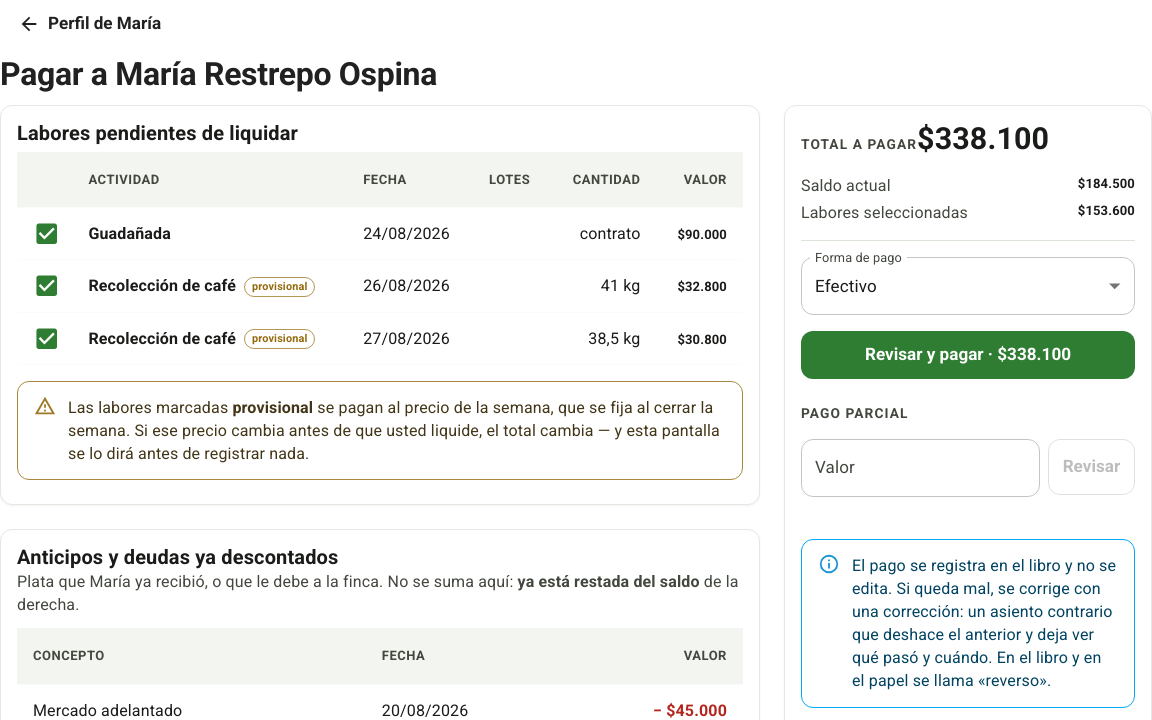
when the gross changes between looking at it and approving it › shows no error: it shows the difference and why
Expected: the heading "Labores pendientes de liquidar" is shown, x1=17 y1=120 x2=298 y2=144
Expected: the text "$153.600" is shown, x1=1078 y1=201 x2=1135 y2=224
Click the button "Revisar y pagar · $338.100": (968, 355) x1=801 y1=331 x2=1135 y2=379
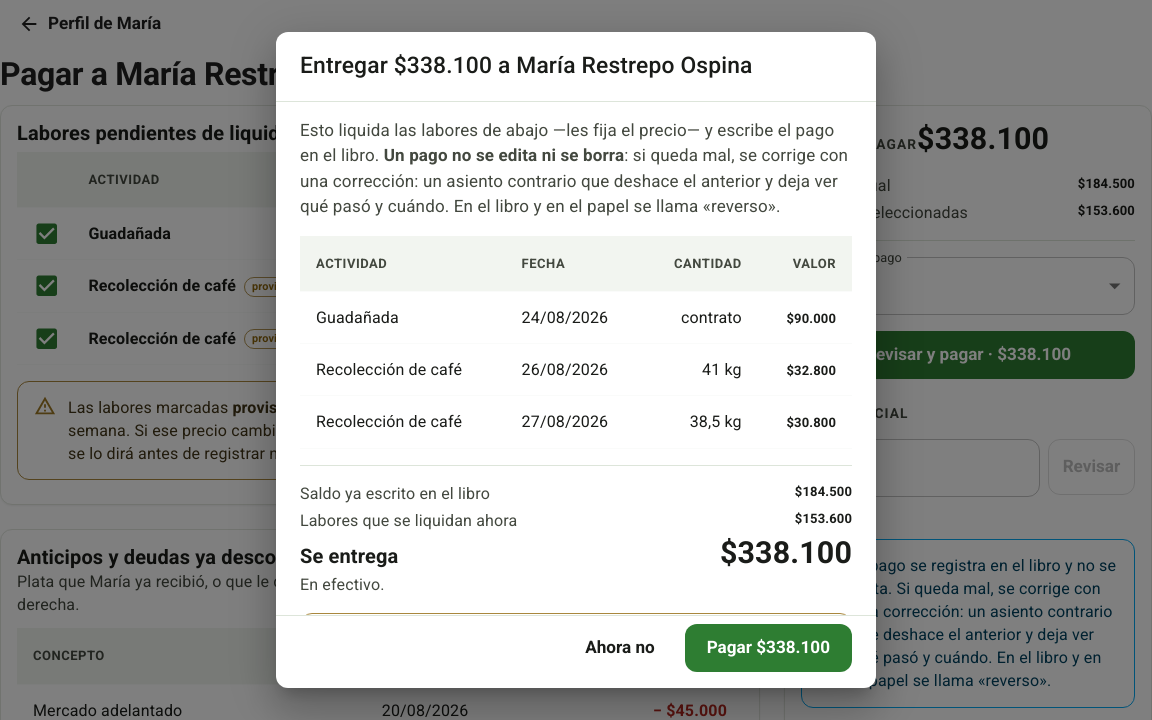
Click the button "Pagar $338.100": (768, 648) x1=685 y1=624 x2=852 y2=672
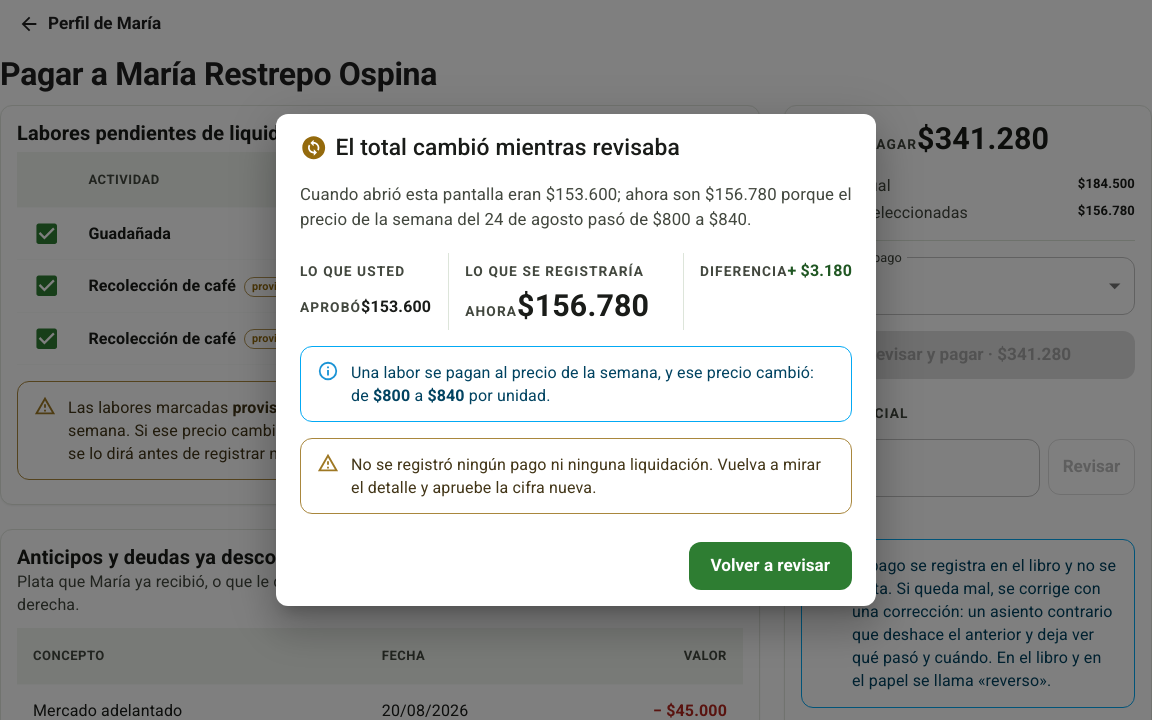
Expected: the heading "Entregar $" is gone
Expected: the text "se pagan al precio de la semana, y ese precio cambió" is shown, x1=351 y1=363 x2=814 y2=405
Expected: the text "No se registró ningún pago ni ninguna liquidación" is shown, x1=351 y1=455 x2=821 y2=497
